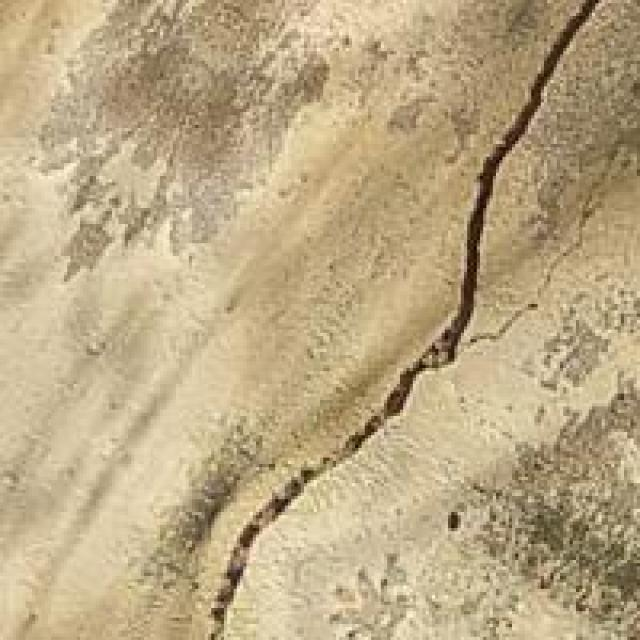crack: (202, 0, 608, 637)
